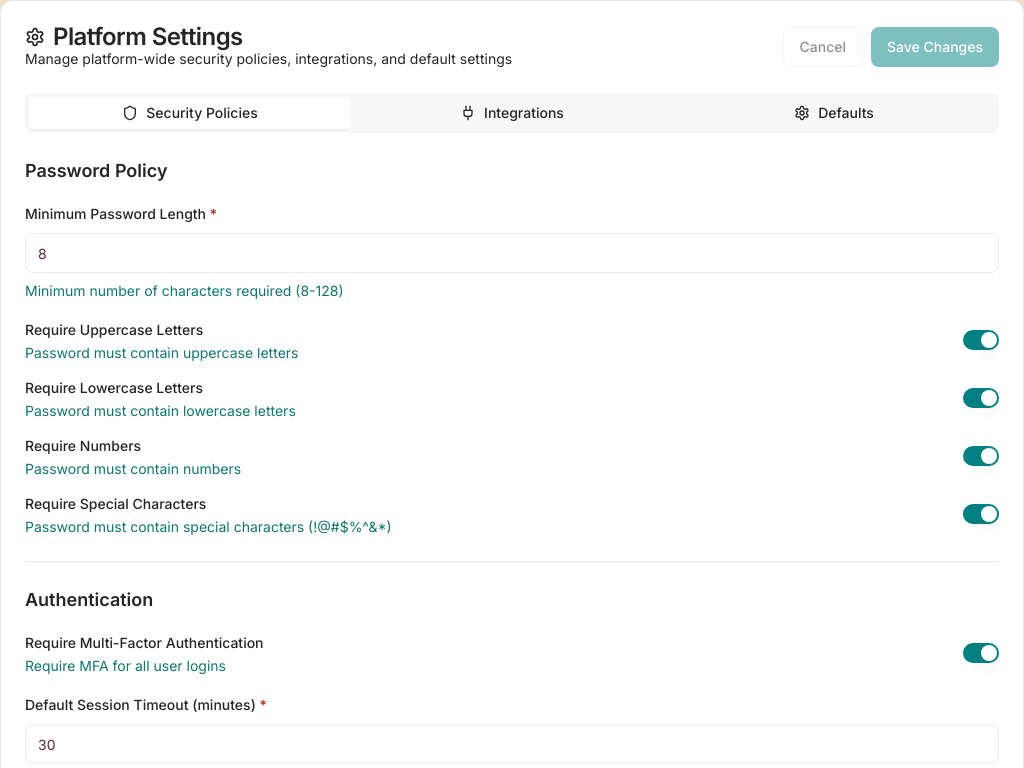
Test: PlatformSettings › Cancel Functionality › should reset changes when cancel is clicked
Replace the text in the number field labelled "Minimum Password Length *" with "12" at [512, 253], box [25, 233, 999, 273]
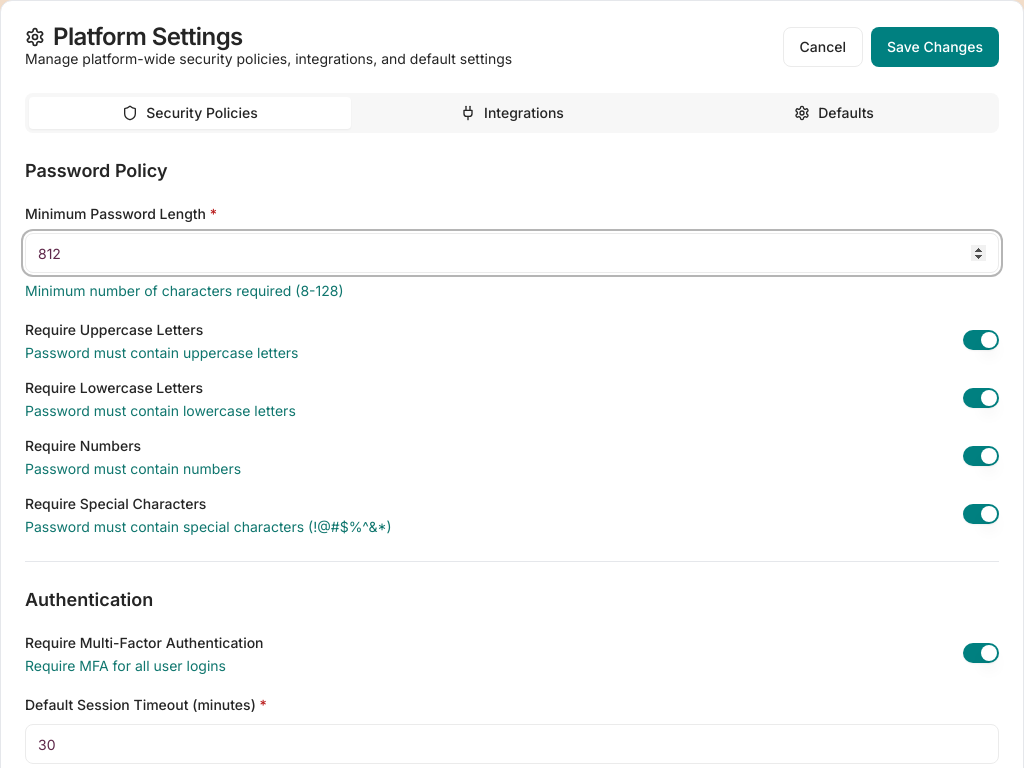
Click the button "Cancel" at [823, 47], box [782, 27, 863, 67]
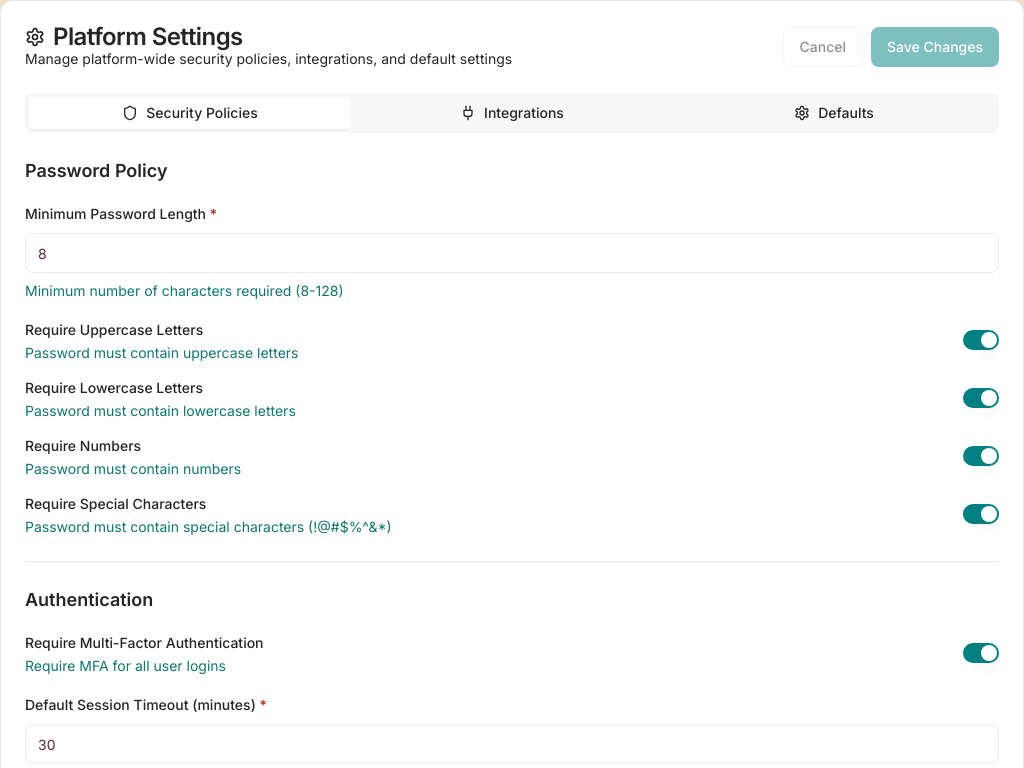
Expected: the number field labelled "Minimum Password Length *" holds "8", [25, 233, 999, 273]
